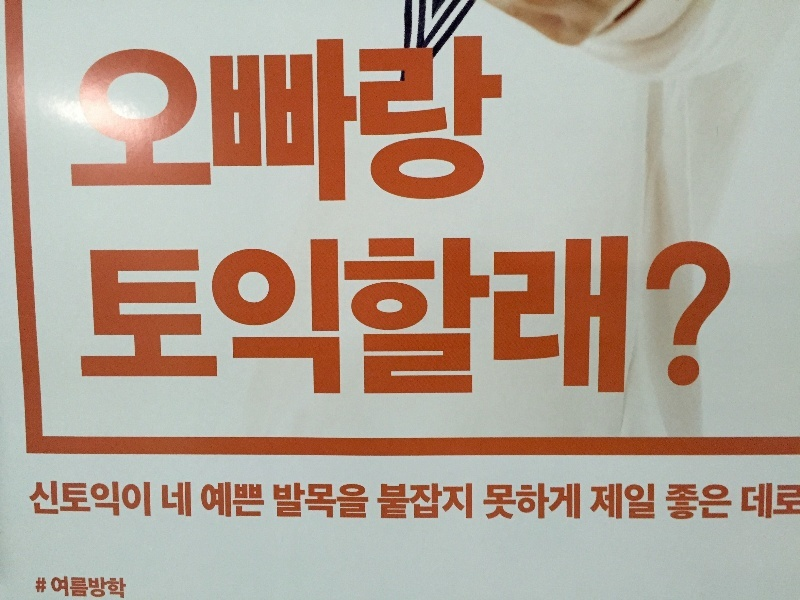text: (81, 31, 96, 209), (97, 31, 112, 209), (113, 31, 128, 209), (129, 31, 144, 209), (145, 31, 160, 209), (161, 31, 176, 209), (177, 31, 192, 209), (193, 31, 208, 209), (209, 31, 224, 209), (225, 31, 240, 209), (241, 31, 256, 209), (257, 31, 272, 209), (273, 31, 288, 209), (289, 31, 304, 209), (305, 31, 320, 209), (321, 31, 336, 209), (337, 31, 352, 209), (353, 31, 368, 209), (369, 31, 384, 209), (385, 31, 400, 209), (401, 31, 416, 209), (417, 31, 432, 209), (433, 31, 448, 209), (449, 31, 464, 209), (465, 31, 480, 209), (481, 31, 496, 209), (721, 235, 737, 398), (97, 235, 112, 398), (113, 235, 128, 398), (129, 235, 144, 398), (145, 235, 160, 398), (161, 235, 176, 398), (177, 235, 192, 398), (193, 235, 208, 398), (209, 235, 224, 398), (225, 235, 240, 398), (241, 235, 256, 398), (257, 235, 272, 398), (273, 235, 288, 398), (289, 235, 304, 398), (305, 235, 320, 398), (321, 235, 336, 398), (337, 235, 352, 398), (353, 235, 368, 398), (369, 235, 384, 398), (385, 235, 400, 398), (401, 235, 416, 398), (417, 235, 432, 398), (433, 235, 448, 398), (449, 235, 464, 398), (465, 235, 480, 398), (481, 235, 496, 398), (497, 235, 512, 398), (513, 235, 528, 398), (529, 235, 544, 398), (545, 235, 560, 398), (561, 235, 576, 398), (577, 235, 592, 398), (593, 235, 608, 398), (609, 235, 624, 398), (625, 235, 640, 398), (641, 235, 656, 398), (657, 235, 672, 398), (673, 235, 688, 398), (689, 235, 704, 398), (705, 235, 720, 398), (497, 31, 509, 209), (84, 235, 96, 398), (71, 31, 80, 209), (673, 483, 688, 523), (689, 483, 704, 523), (705, 483, 720, 523), (385, 483, 400, 522), (401, 483, 416, 522), (417, 483, 432, 522), (433, 483, 448, 522), (449, 483, 464, 522), (497, 483, 512, 522), (513, 483, 528, 522), (529, 483, 544, 522), (545, 483, 560, 522), (561, 483, 576, 522), (593, 483, 608, 522), (609, 483, 624, 522), (625, 483, 640, 522), (641, 483, 656, 522), (33, 481, 48, 519), (49, 481, 64, 519), (65, 481, 80, 519), (81, 481, 96, 519), (97, 481, 112, 519), (113, 481, 128, 519), (129, 481, 144, 519), (161, 482, 176, 520), (177, 482, 192, 520), (209, 482, 224, 520), (225, 482, 240, 520), (241, 482, 256, 520), (273, 483, 288, 521), (289, 483, 304, 521), (305, 483, 320, 521), (321, 483, 336, 521), (337, 483, 352, 521), (353, 483, 368, 521), (753, 484, 768, 521), (769, 484, 784, 521), (785, 484, 799, 521), (721, 483, 733, 523), (484, 483, 496, 522), (740, 484, 752, 521), (465, 483, 474, 522), (65, 577, 80, 600), (81, 577, 96, 600), (97, 577, 112, 600), (113, 577, 128, 600), (376, 483, 384, 522), (145, 481, 153, 519), (257, 482, 265, 520), (51, 577, 64, 600), (201, 482, 208, 520), (666, 483, 672, 523), (36, 577, 48, 596), (577, 483, 582, 522), (590, 483, 592, 522), (30, 481, 32, 519), (369, 483, 370, 521)
